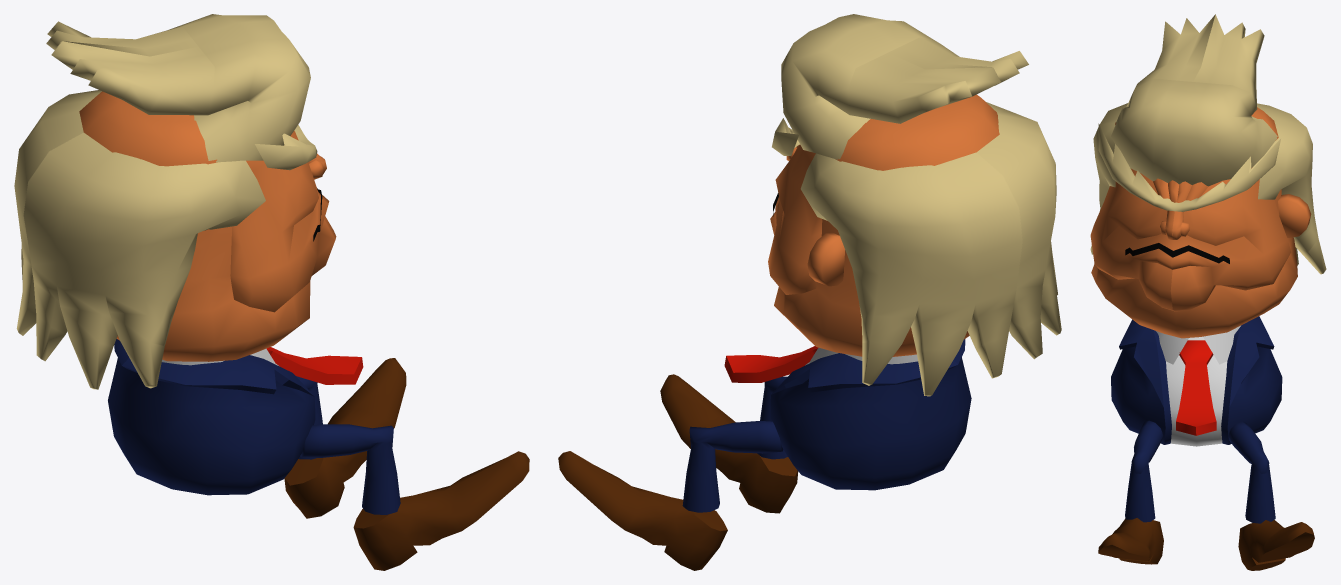
Rendered from Character02.fbx.
3 renders of one model, left to right at view 1: azimuth 30°, elevation 25°; view 2: azimuth 150°, elevation 25°; view 3: azimuth 270°, elevation 25°, orthographic. The views are drawn at different scales.
Visible parts, largest first — view 1: Cube.007; view 2: Cube.007; view 3: Cube.007.
Part boxes in pixels (x1,y1,x2,y2): Cube.007: [14, 14, 529, 570]; Cube.007: [558, 14, 1061, 570]; Cube.007: [1090, 14, 1326, 570].
Size of the model in its own units: 3.81 by 4.68 by 2.22.
